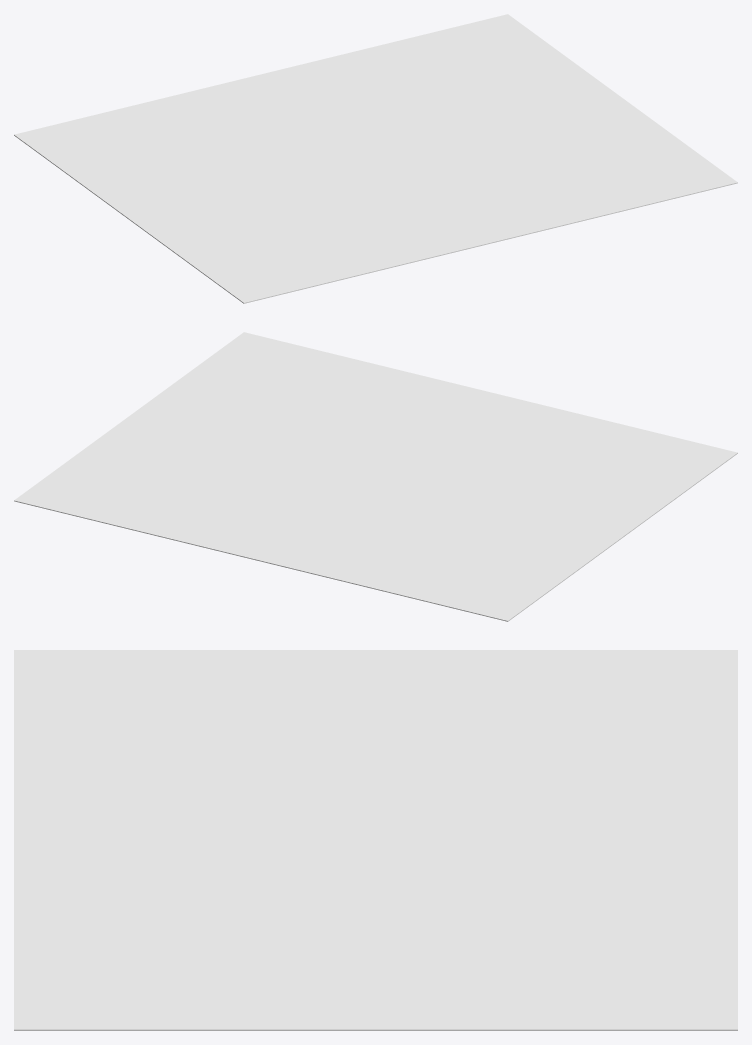
Rendered from Level 96 battery.fbx.
3 views of the same model, one above another, from view 1: azimuth 30°, elevation 25°; view 2: azimuth 150°, elevation 25°; view 3: azimuth 270°, elevation 25° (orthographic). The views are drawn at different scales.
Parts seen in each view (by area): view 1: Blend; view 2: Blend; view 3: Blend.
Part boxes in pixels (x1,y1,x2,y2): Blend: [14, 14, 737, 303]; Blend: [14, 332, 737, 621]; Blend: [14, 650, 737, 1030].
Size of what is drawn, in the model's own units: 604 by 1 by 487.
